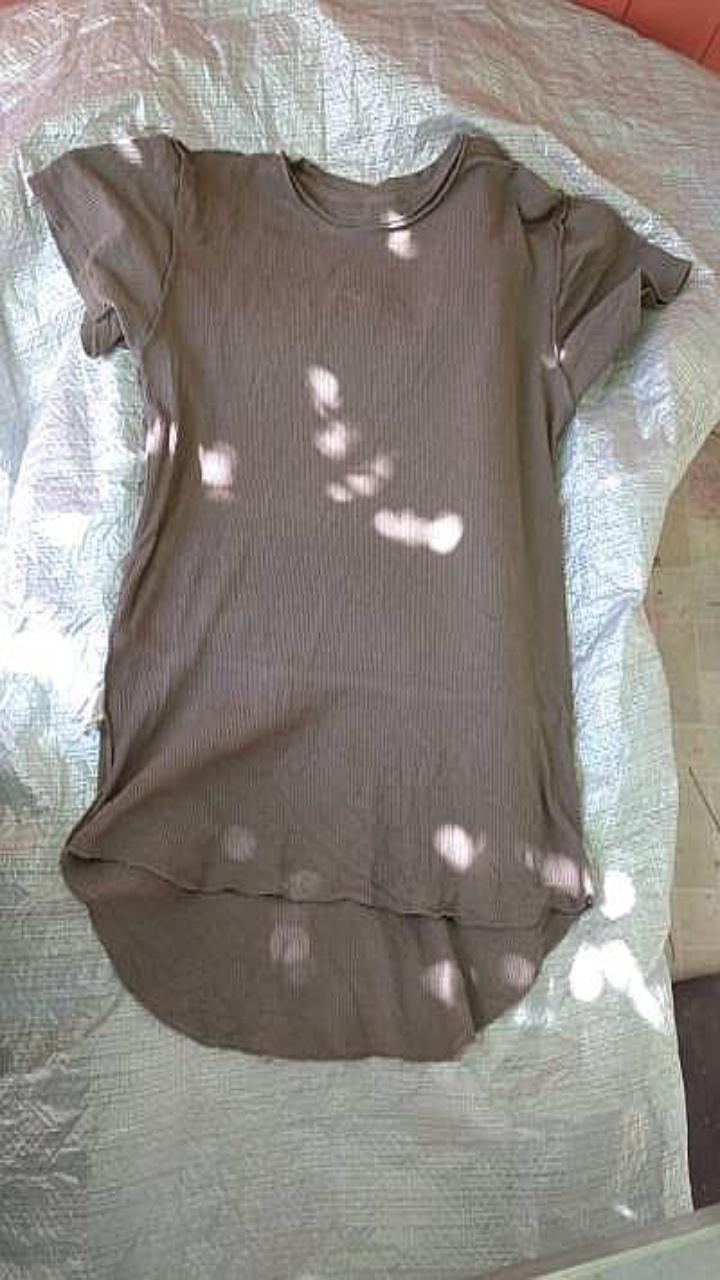T-Shirt: (29, 131, 690, 1059)
